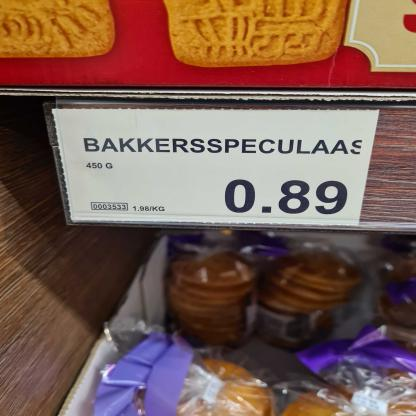prtg: (52, 110, 381, 226)
